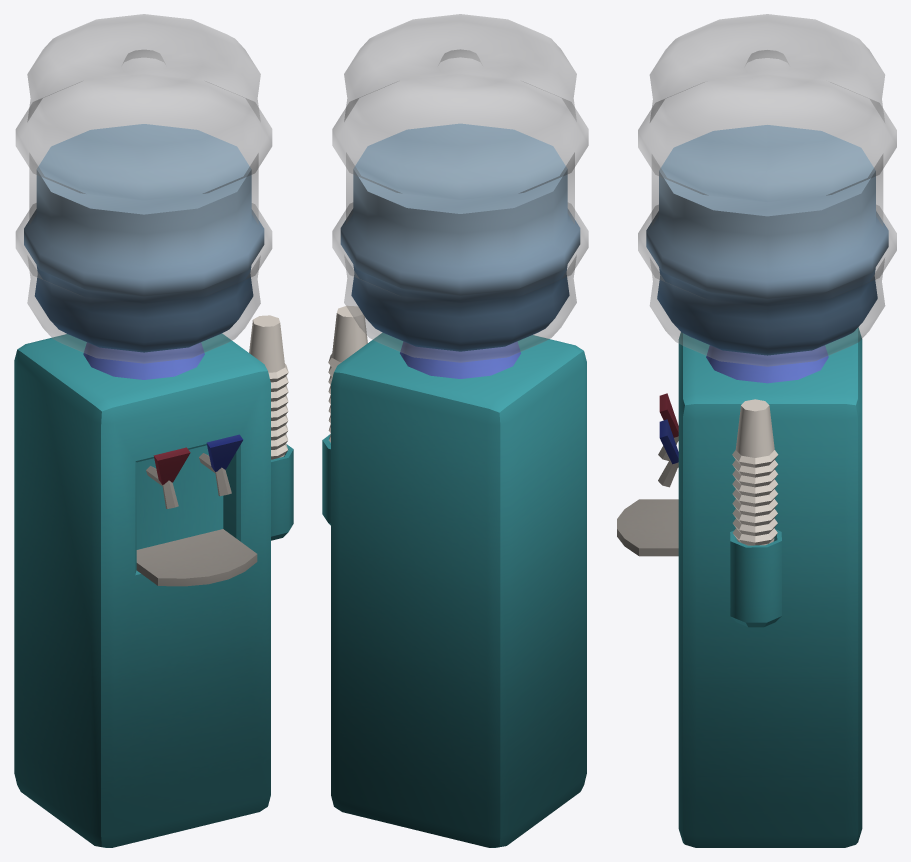
The model's file is Water_Dispenser.fbx.
3 renders of one model, left to right at view 1: azimuth 30°, elevation 25°; view 2: azimuth 150°, elevation 25°; view 3: azimuth 270°, elevation 25°, orthographic.
Parts seen in each view (by area): view 1: Box032; view 2: Box032; view 3: Box032.
Boxes of the visible parts, left/top/right/bottom form: Box032: left=14, top=14, right=293, bottom=847; Box032: left=322, top=14, right=588, bottom=847; Box032: left=617, top=14, right=896, bottom=847.
Size of the model in its own units: 71.47 by 205 by 68.7.
